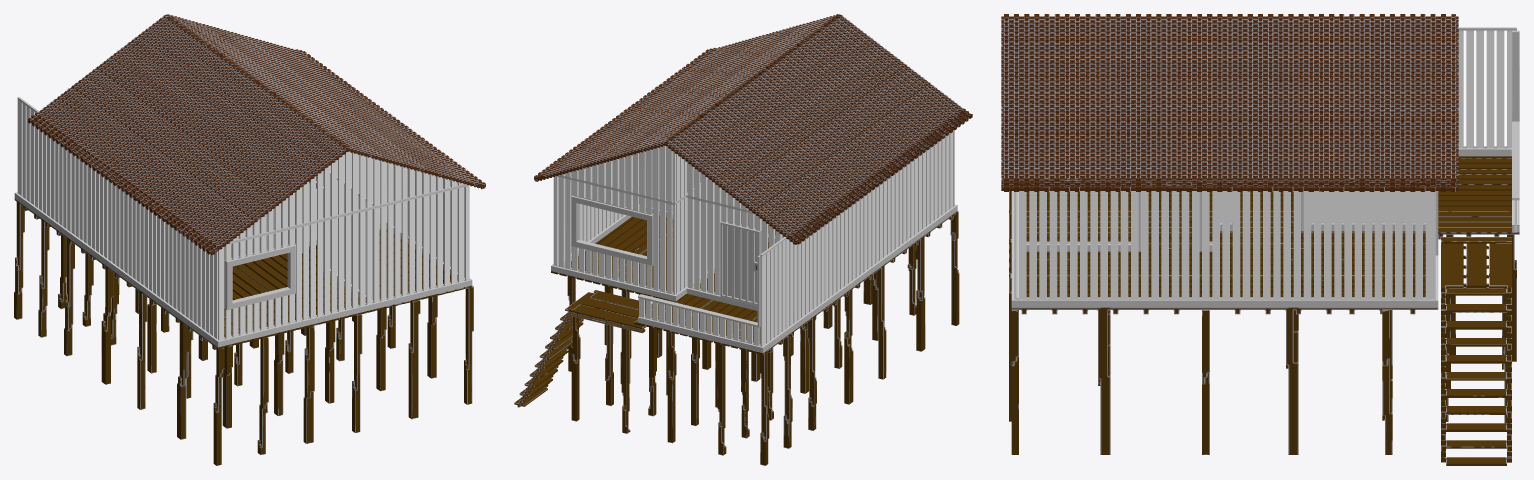
The model's file is Palafita3.fbx.
3 views of the same model, side by side, from view 1: azimuth 30°, elevation 25°; view 2: azimuth 150°, elevation 25°; view 3: azimuth 270°, elevation 25° (orthographic). The views are drawn at different scales.
Parts seen in each view (by area): view 1: Pallafita-LC-0, Pallafita-LC-2; view 2: Pallafita-LC-0, Pallafita-LC-2, Pallafita-LC-1; view 3: Pallafita-LC-0, Pallafita-LC-2.
Boxes of the visible parts, x1=… form: Pallafita-LC-0: x1=14, y1=14, x2=485, y2=465; Pallafita-LC-2: x1=14, y1=97, x2=472, y2=347; Pallafita-LC-0: x1=514, y1=14, x2=972, y2=465; Pallafita-LC-2: x1=551, y1=97, x2=957, y2=352; Pallafita-LC-1: x1=720, y1=221, x2=761, y2=305; Pallafita-LC-0: x1=1001, y1=14, x2=1519, y2=465; Pallafita-LC-2: x1=1011, y1=27, x2=1519, y2=307.
Size of the model in its own units: 1570 by 1590 by 2040.
3 materials, 3 textured.
